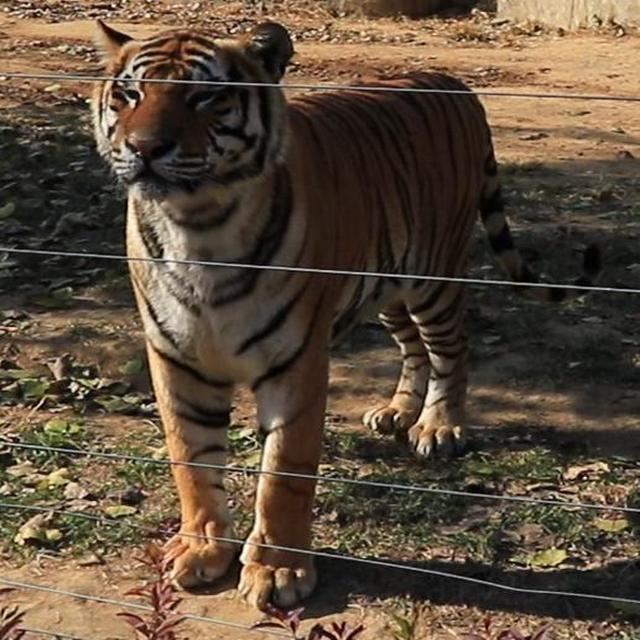tiger: (86, 16, 602, 613)
